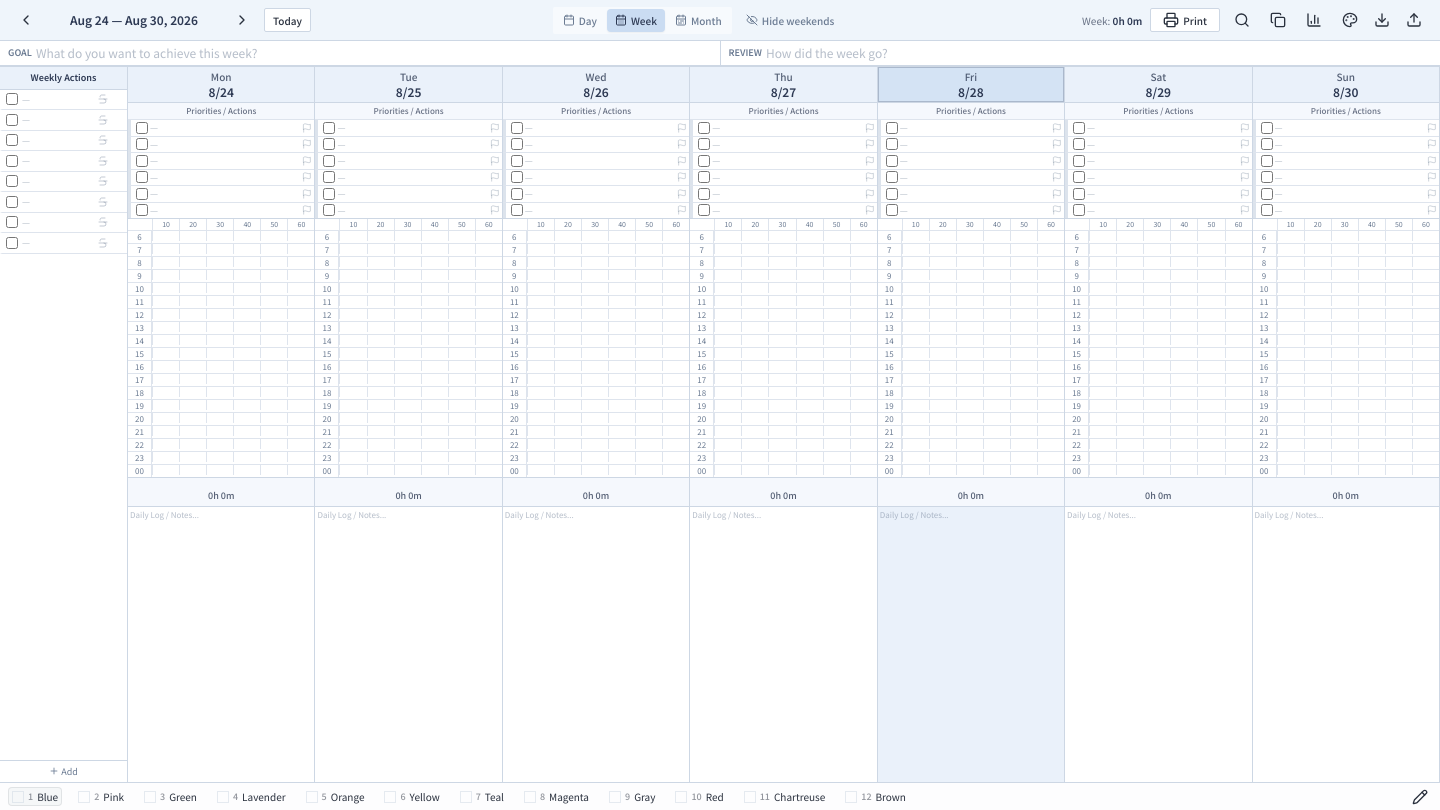
Test: clicking a month result in the app › switches to the month view and lands on that month
This screenshot has width=1440, height=810.
Click the button named "search all weeks": coordinates (1242, 20) [1228,6,1256,34]
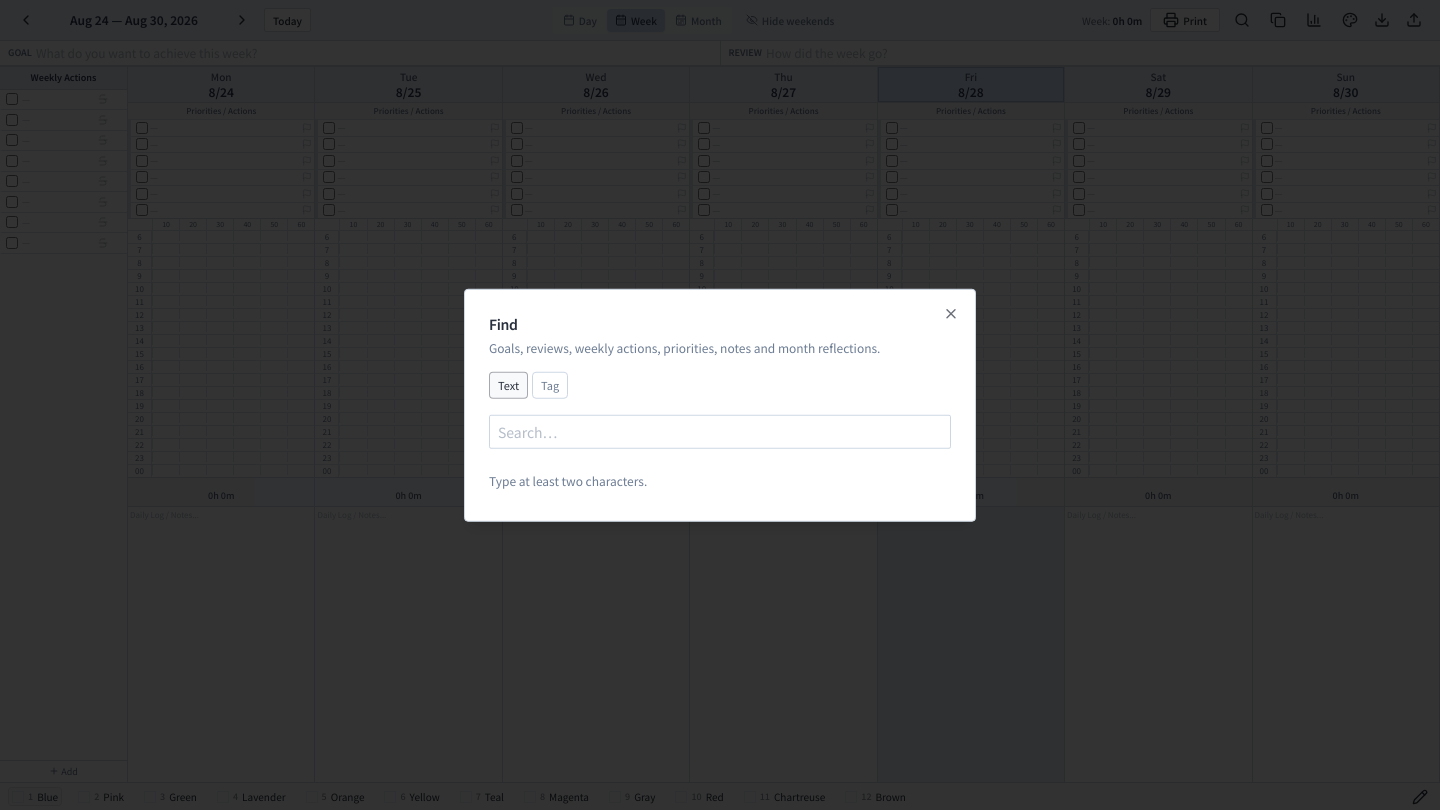
In the field named "search all weeks": coordinates (720, 431) [489,414,951,448], type "Teaching"
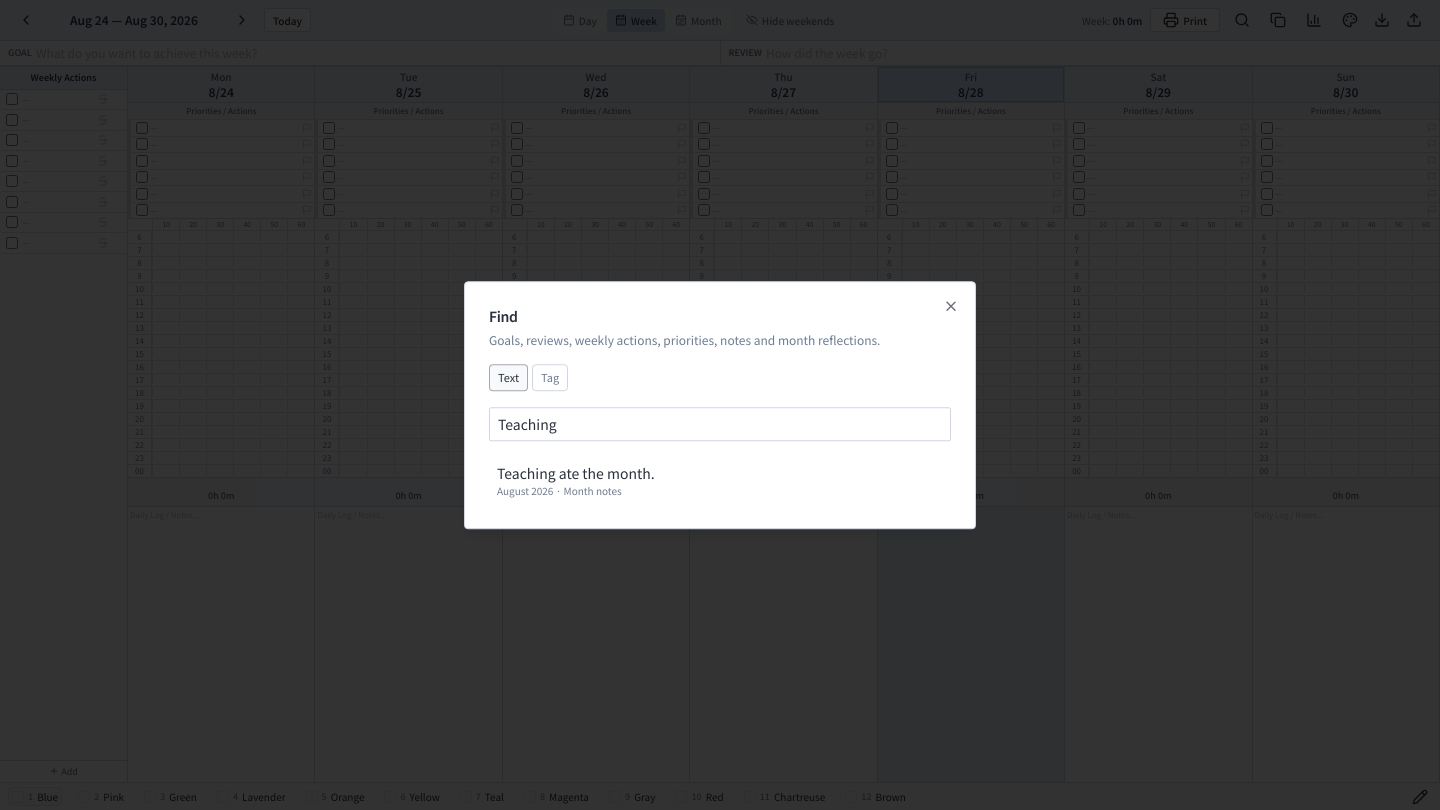
Click the text "Teaching ate the month.": coordinates (576, 473) [497,463,655,483]
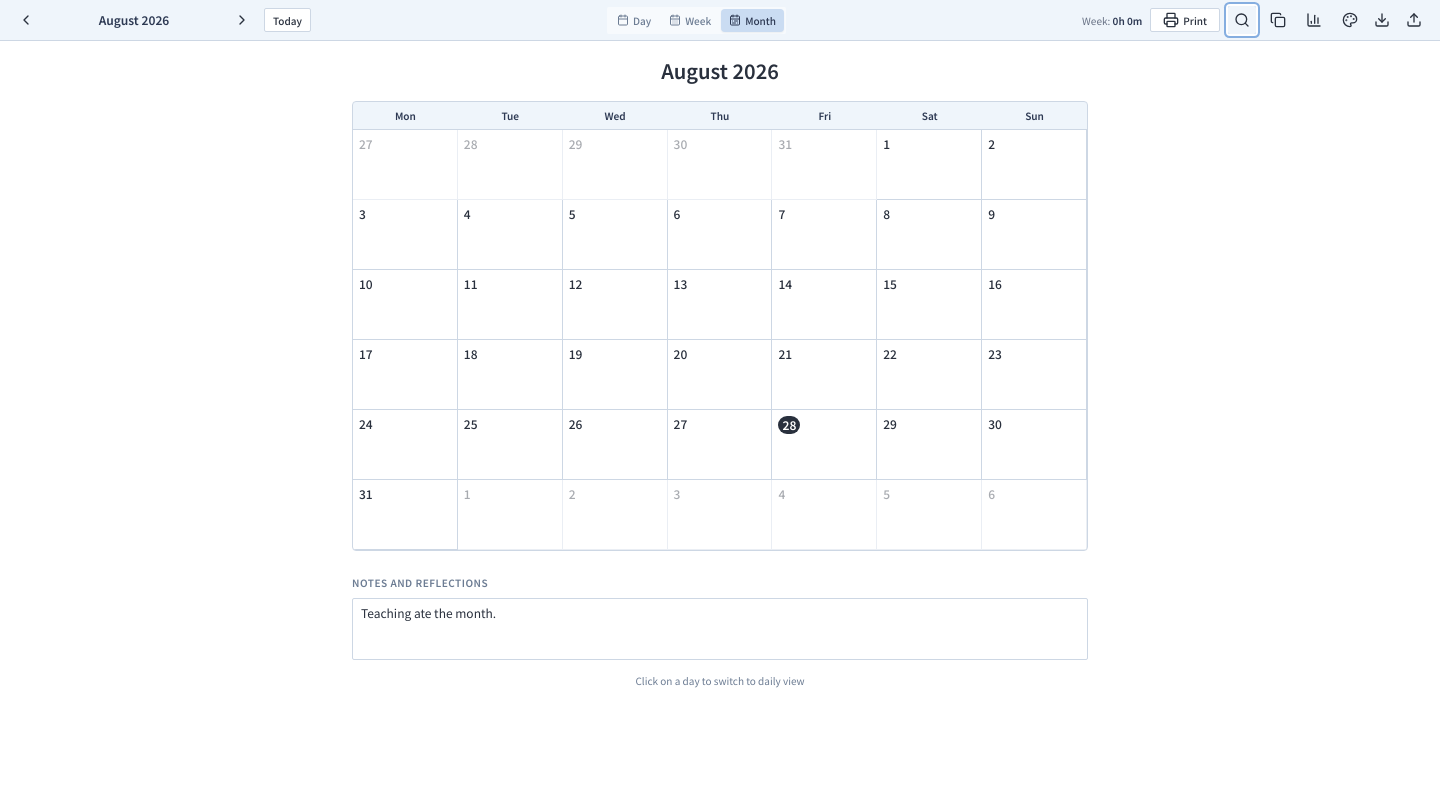
expect the text box named "Notes and reflections for August 2026" is shown: met, box [352,598,1088,660]
